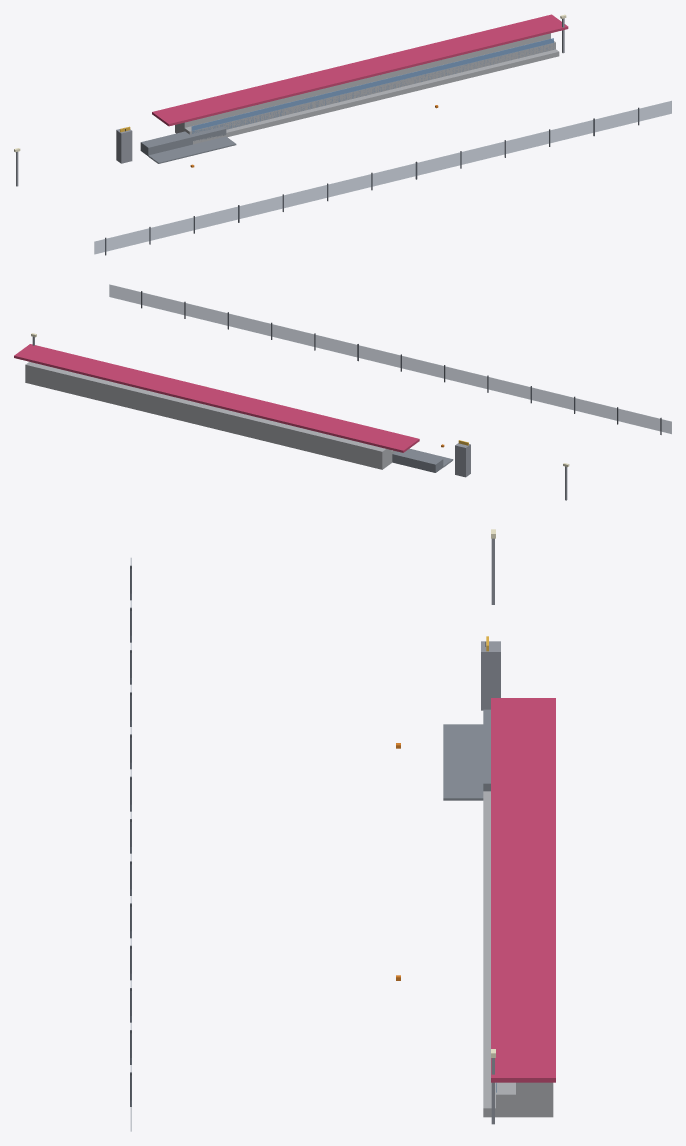
File: venue_8.obj
3 views of the same model, one above another, from view 1: azimuth 30°, elevation 25°; view 2: azimuth 150°, elevation 25°; view 3: azimuth 270°, elevation 25° (orthographic). The views are drawn at different scales.
Bounding box in the file's own units: 520 × 32 × 170.
